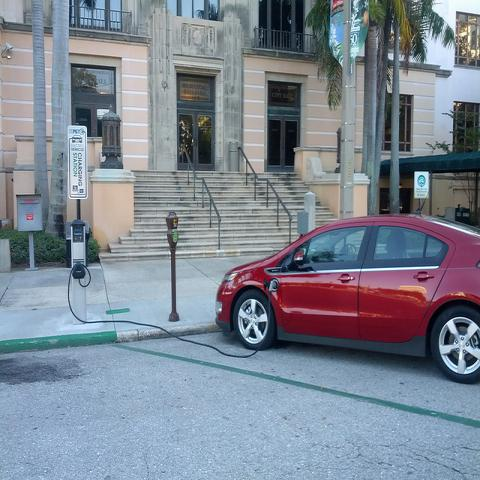car: (212, 215, 480, 386)
